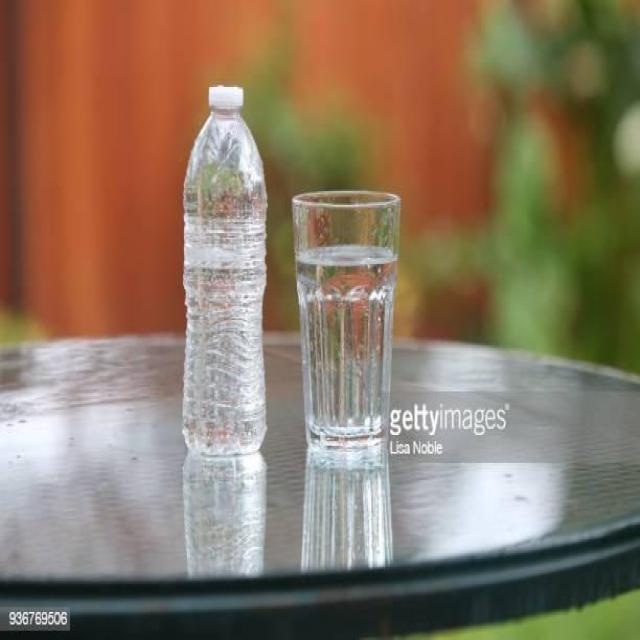bottle: (180, 70, 272, 455)
